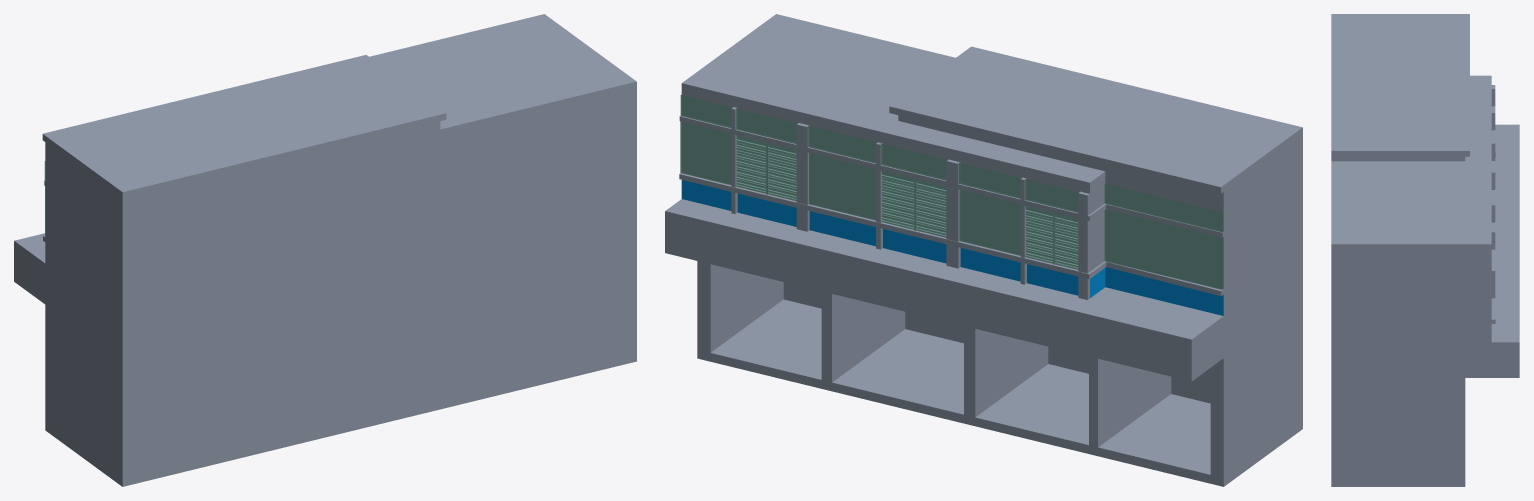
File: Edificio_03.fbx
3 renders of one model, left to right at view 1: azimuth 30°, elevation 25°; view 2: azimuth 150°, elevation 25°; view 3: azimuth 270°, elevation 25°, orthographic. The views are drawn at different scales.
Parts seen in each view (by area): view 1: pCube2; view 2: pCube2, pPlane13, pPlane1, pPlane2, pPlane4, pPlane5, pPlane3, pPlane6, pPlane14, pPlane7, pPlane9, pPlane10 (+3 smaller); view 3: pCube2.
Part boxes in pixels (x1,y1,x2,y2): pCube2: [14, 14, 636, 486]; pCube2: [665, 14, 1302, 486]; pPlane13: [1104, 209, 1222, 289]; pPlane1: [809, 153, 875, 220]; pPlane2: [881, 170, 946, 237]; pPlane4: [959, 190, 1020, 255]; pPlane5: [736, 135, 796, 201]; pPlane3: [1025, 205, 1078, 269]; pPlane6: [680, 121, 731, 184]; pPlane14: [1104, 183, 1222, 232]; pPlane7: [807, 126, 876, 163]; pPlane9: [880, 143, 947, 180]; pPlane10: [958, 162, 1021, 198]; pCube2: [1331, 14, 1519, 486].
Bounding box in the file's own units: 40.03 × 21.9 × 14.61.
